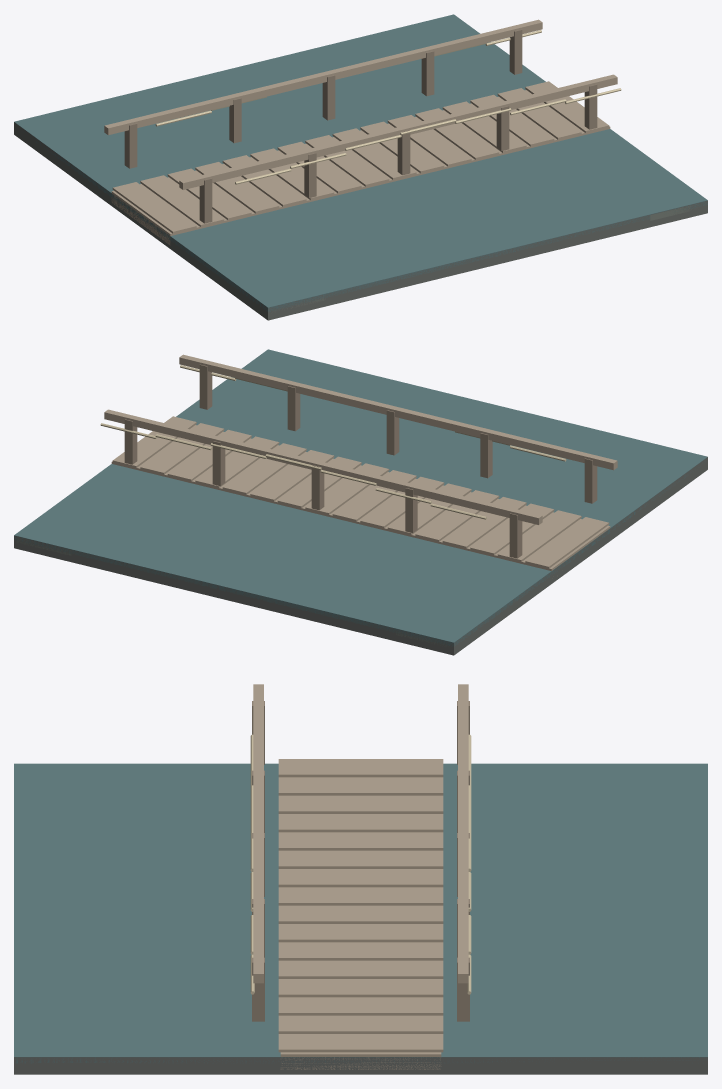
Rendered from bridge_rope_ew.glb.
3 renders of one model, top to bottom at view 1: azimuth 30°, elevation 25°; view 2: azimuth 150°, elevation 25°; view 3: azimuth 270°, elevation 25°, orthographic. The views are drawn at different scales.
Parts seen in each view (by area): view 1: road_material_01, road_material_03, road_material_00, road_material_04, road_material_05; view 2: road_material_01, road_material_03, road_material_00, road_material_04, road_material_05; view 3: road_material_01, road_material_03, road_material_00, road_material_05, road_material_04.
Part boxes in pixels (x1,y1,x2,y2): road_material_01: [14, 14, 707, 311]; road_material_03: [104, 19, 617, 245]; road_material_00: [14, 122, 707, 320]; road_material_04: [124, 29, 597, 223]; road_material_05: [155, 30, 621, 184]; road_material_01: [14, 349, 707, 646]; road_material_03: [104, 354, 617, 570]; road_material_00: [14, 457, 707, 655]; road_material_04: [124, 364, 597, 558]; road_material_05: [100, 365, 566, 519]; road_material_01: [14, 763, 707, 1063]; road_material_03: [253, 684, 468, 1069]; road_material_00: [14, 1057, 707, 1074]; road_material_05: [250, 734, 471, 994]; road_material_04: [252, 701, 469, 1021].
Size of the model in its own units: 8 by 1.26 by 8.
